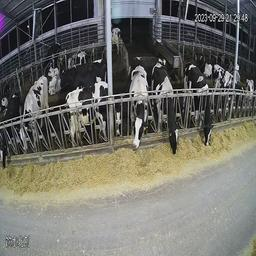cow: (65, 82, 122, 149), (182, 61, 215, 148), (151, 61, 179, 156), (23, 71, 49, 156), (210, 59, 244, 120), (128, 65, 151, 149), (60, 58, 108, 93), (1, 90, 21, 173), (132, 53, 181, 84), (108, 25, 123, 56), (48, 65, 62, 98), (67, 51, 90, 71), (245, 75, 255, 113), (45, 43, 63, 64)
